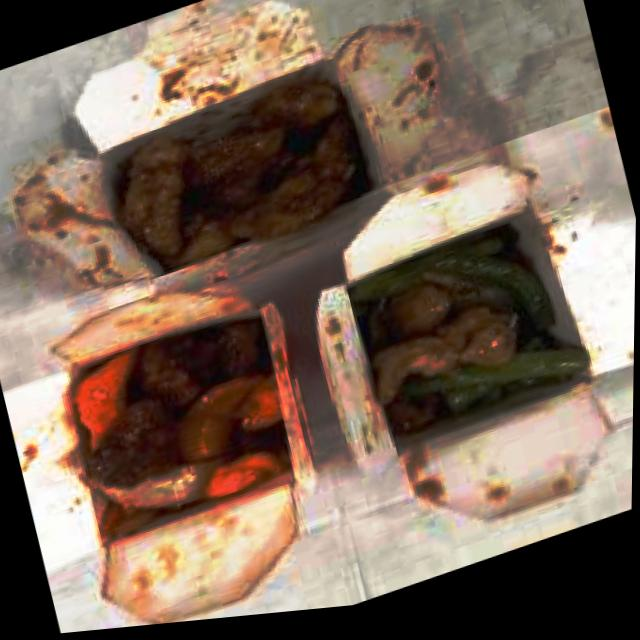Beijing Beef: (57, 300, 303, 551)
Kung Pao Chicken: (94, 57, 383, 294)
String Bean Chicken Breast: (343, 203, 591, 458)
